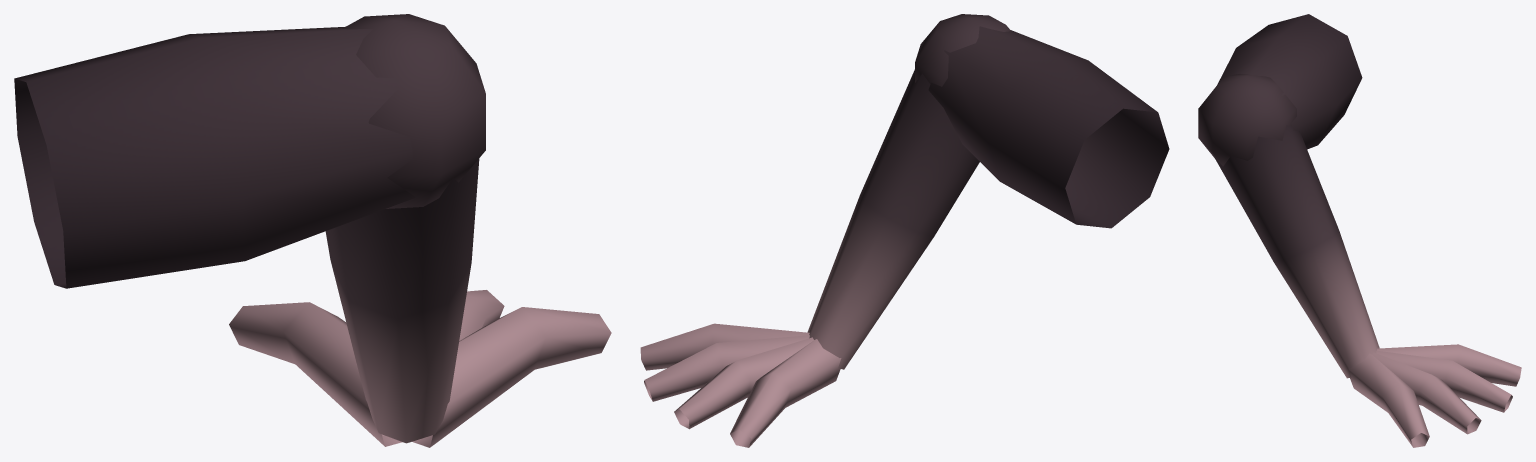
Rendered from Sanshouuo_Leg2.fbx.
3 views of the same model, side by side, from view 1: azimuth 30°, elevation 25°; view 2: azimuth 150°, elevation 25°; view 3: azimuth 270°, elevation 25° (orthographic). The views are drawn at different scales.
Visible parts, largest first — view 1: Sanshouuo_Leg2; view 2: Sanshouuo_Leg2; view 3: Sanshouuo_Leg2.
Part boxes in pixels (x1,y1,x2,y2): Sanshouuo_Leg2: [14, 14, 611, 447]; Sanshouuo_Leg2: [640, 14, 1169, 447]; Sanshouuo_Leg2: [1198, 14, 1521, 447].
Bounding box in the file's own units: 0.7122 × 0.5219 × 0.5488.
